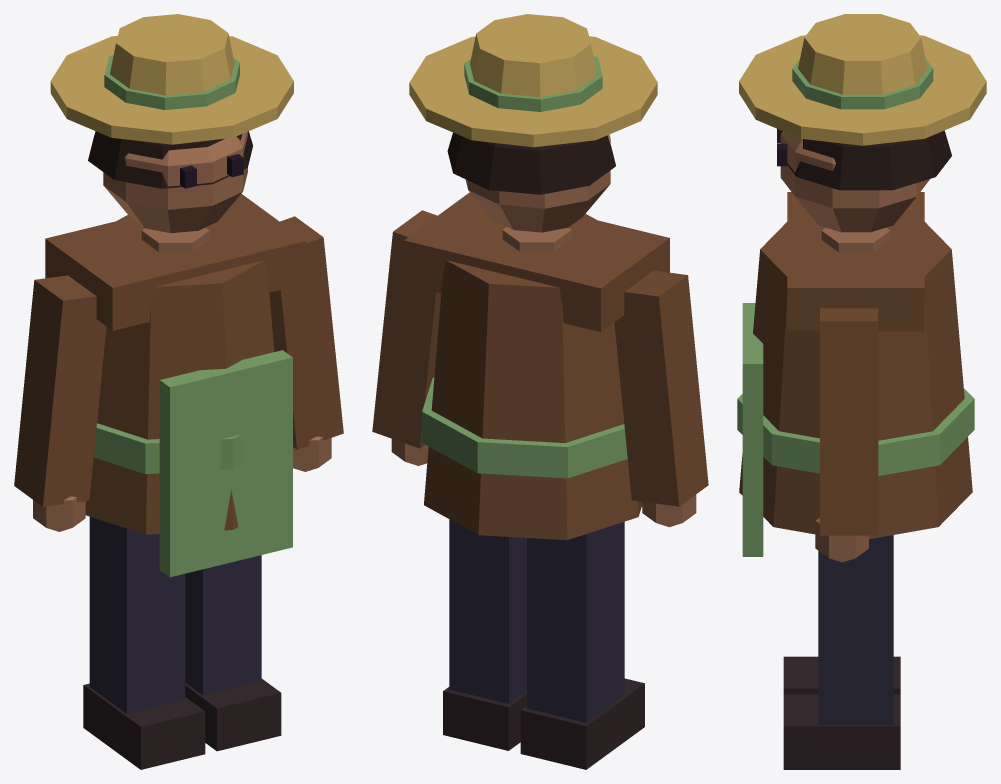
The model's file is person_noor.gltf.
The picture shows the model from 3 angles, left to right: view 1: azimuth 30°, elevation 25°; view 2: azimuth 150°, elevation 25°; view 3: azimuth 270°, elevation 25°; orthographic projection. The views are drawn at different scales.
Visible parts, largest first — view 1: body, face; view 2: body, face; view 3: body, face.
Part boxes in pixels (bbox=[...]): body: bbox=[14, 194, 343, 769]; face: bbox=[50, 14, 293, 233]; body: bbox=[372, 192, 708, 769]; face: bbox=[409, 14, 657, 232]; body: bbox=[737, 192, 974, 769]; face: bbox=[739, 14, 986, 232].
Size of the model in its own units: 1.03 by 2.24 by 0.725.
